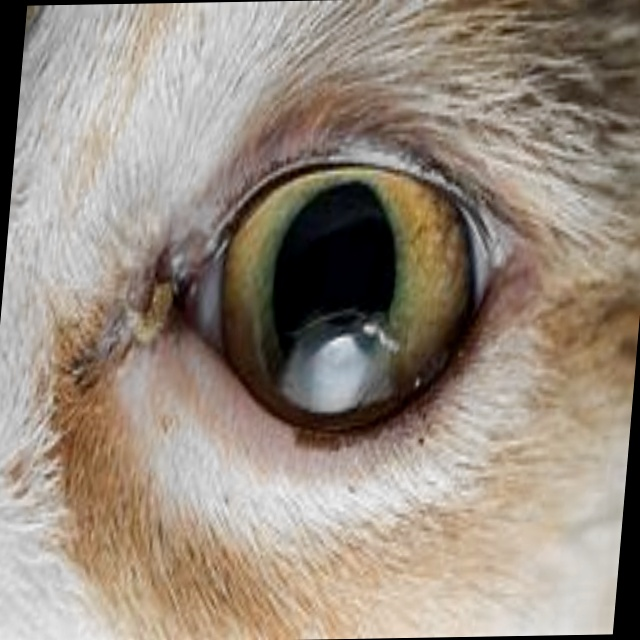eye_infection: (135, 148, 526, 451)
